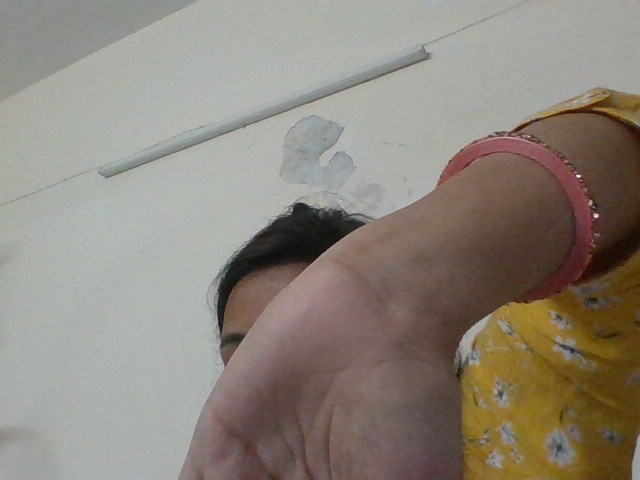forward: (127, 201, 499, 479)
